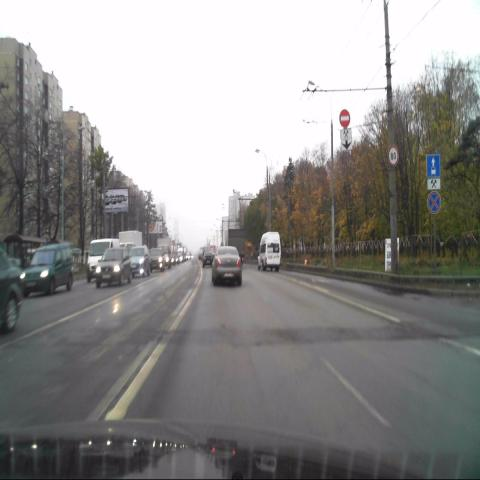5_14: (427, 154, 440, 178)
